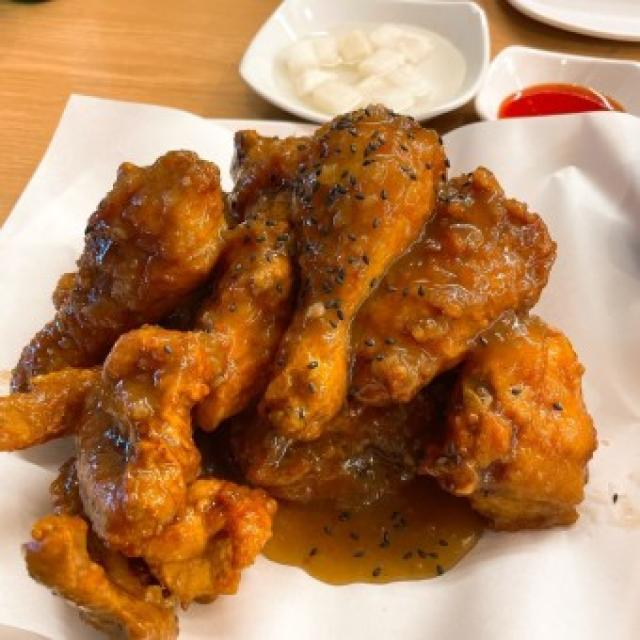Frango: (22, 98, 600, 640)
